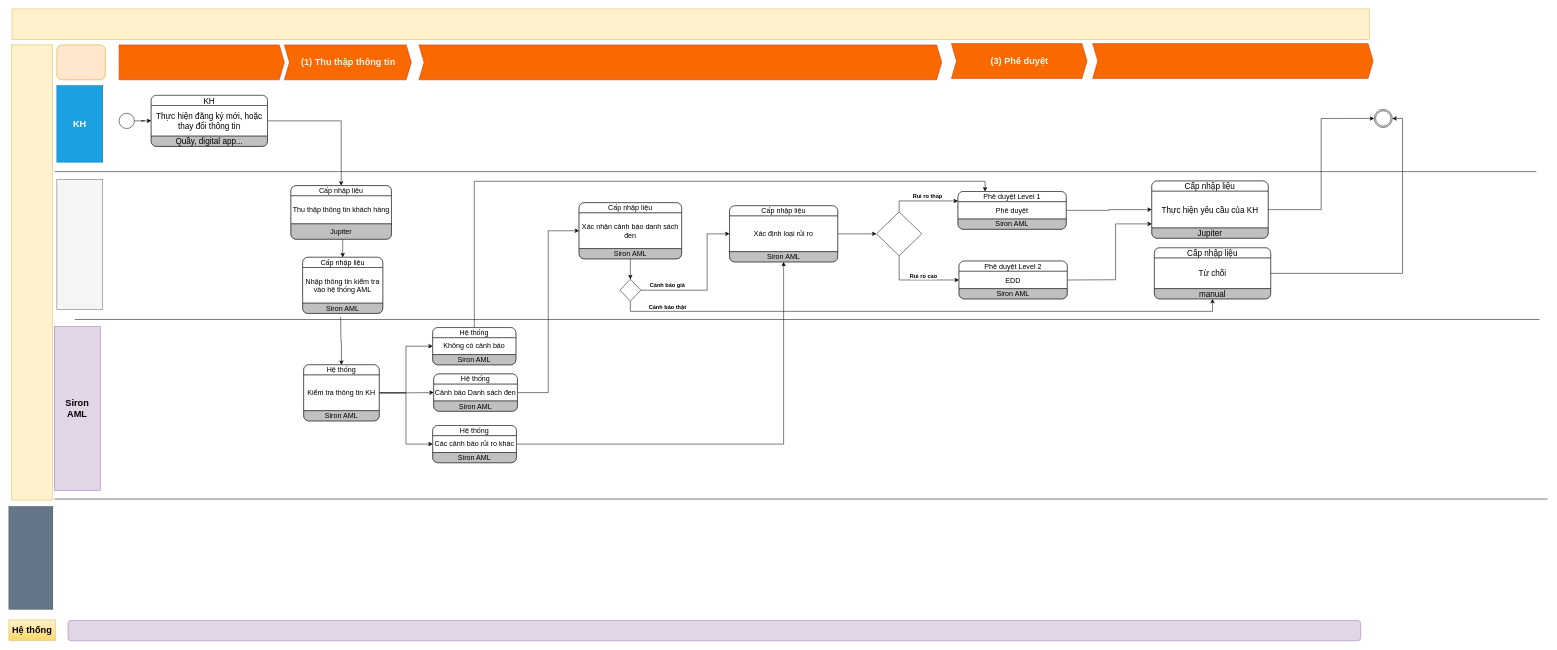
Some shapes in this 1557 by 650 pixel diagram are drawn without their labels. The box of each missing label's shape, as (x1, y1, x2, y2) in pixels:
(0) KH thực hiện giao dịch: (119, 44, 284, 80)
(2) Kiểm tra, đánh giá, kết luận: (418, 44, 942, 80)
Cán bộ tại quầy: (56, 179, 103, 309)
End: (1374, 109, 1392, 128)
Hành trình: (11, 44, 52, 500)
HÀNH TRÌNH KYC KHÁCH HÀNG (AS IS): (11, 8, 1370, 40)
Phân loại rủi ro: (876, 211, 922, 256)
Process: (56, 44, 105, 80)
Start: (119, 113, 134, 129)
System: (68, 620, 1361, 641)
Tác nghiệp sau kiểm tra: (1092, 43, 1373, 79)
Điểm chưa tốt / Pain Point: (8, 506, 53, 609)
